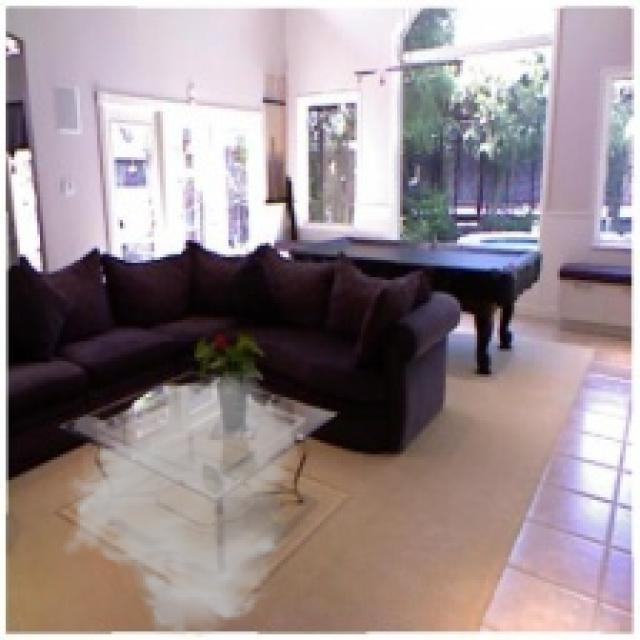Smoke: (60, 368, 303, 638)
